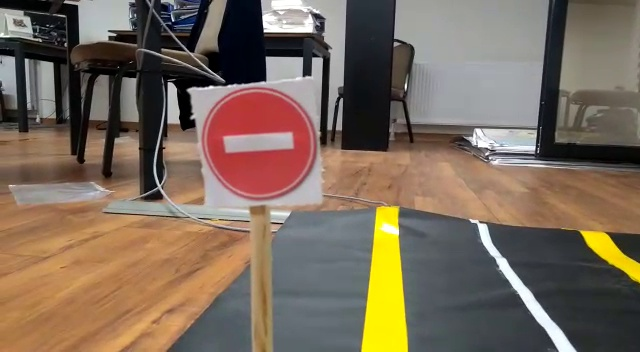girisi_olmayan_yol: (190, 88, 320, 201)
